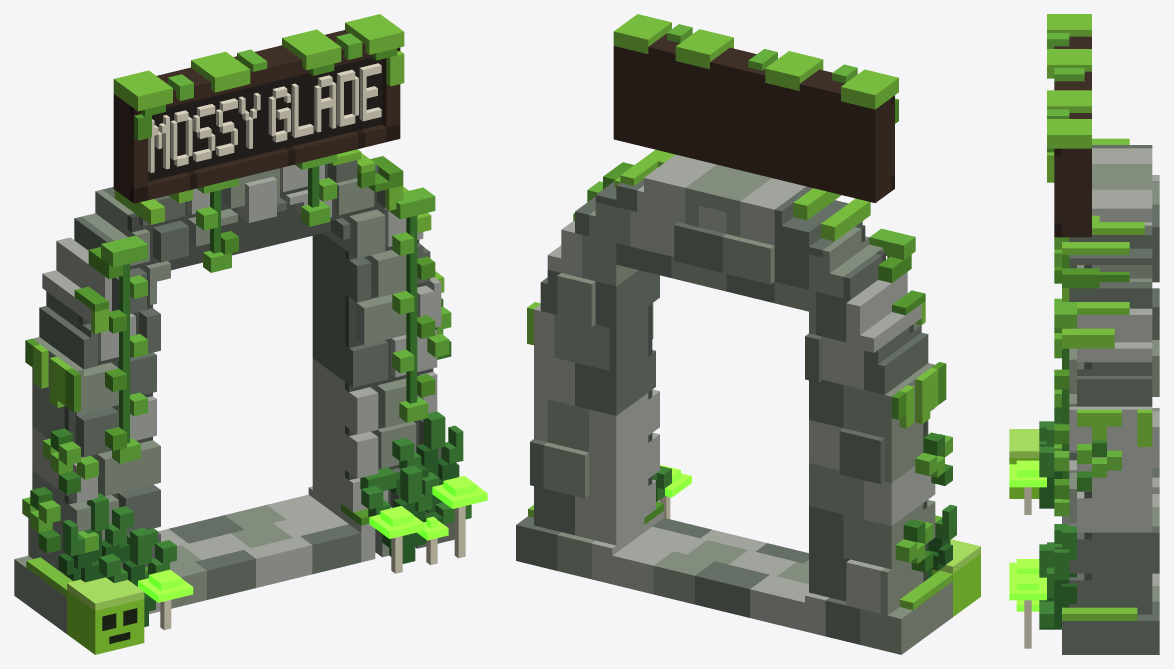
The model's file is Lobby_PortalArch_MossyGlade.glb.
3 views of the same model, side by side, from view 1: azimuth 30°, elevation 25°; view 2: azimuth 150°, elevation 25°; view 3: azimuth 270°, elevation 25° (orthographic). The views are drawn at different scales.
Parts seen in each view (by area): view 1: StoneLight, Stone, StoneDark, Leaf, Moss, Wood, FernLight, SignBoard, SignText, MossDark, StoneJoint, Vine (+6 smaller); view 2: StoneLight, Stone, StoneDark, Wood, Moss, Leaf, MossDark, Vine, SlimeBody, FernLight, StoneJoint, SlimeTop (+1 smaller); view 3: StoneDark, StoneLight, Moss, Wood, Stone, Leaf, FernLight, MushroomGlow, MossDark, Fern, Vine, SlimeTop (+3 smaller).
Part boxes in pixels (left/top/right/bottom): StoneLight: left=32, top=164, right=441, bottom=613; Stone: left=14, top=168, right=419, bottom=633; StoneDark: left=39, top=160, right=454, bottom=599; Leaf: left=22, top=33, right=451, bottom=552; Moss: left=26, top=14, right=444, bottom=597; Wood: left=113, top=30, right=400, bottom=200; FernLight: left=63, top=411, right=471, bottom=582; SignBoard: left=148, top=57, right=382, bottom=181; SignText: left=148, top=63, right=381, bottom=172; MossDark: left=25, top=48, right=435, bottom=574; StoneJoint: left=64, top=164, right=433, bottom=581; Vine: left=30, top=166, right=451, bottom=553; StoneLight: left=534, top=154, right=935, bottom=636; Stone: left=543, top=164, right=952, bottom=654; StoneDark: left=516, top=179, right=928, bottom=644; Wood: left=613, top=33, right=894, bottom=202; Moss: left=527, top=14, right=952, bottom=609; Leaf: left=587, top=24, right=952, bottom=563; MossDark: left=603, top=98, right=946, bottom=524; Vine: left=887, top=256, right=952, bottom=572; SlimeBody: left=932, top=554, right=980, bottom=616; FernLight: left=652, top=466, right=956, bottom=540; StoneJoint: left=648, top=224, right=927, bottom=581; SlimeTop: left=939, top=539, right=980, bottom=573; StoneDark: left=1062, top=145, right=1159, bottom=654; StoneLight: left=1069, top=148, right=1159, bottom=585; Moss: left=1047, top=14, right=1152, bottom=620; Wood: left=1054, top=36, right=1091, bottom=237; Stone: left=1069, top=164, right=1159, bottom=601; Leaf: left=1047, top=33, right=1121, bottom=516; FernLight: left=1039, top=407, right=1076, bottom=627; MushroomGlow: left=1009, top=460, right=1046, bottom=611; MossDark: left=1047, top=148, right=1129, bottom=498; Fern: left=1039, top=471, right=1076, bottom=629; Vine: left=1062, top=328, right=1106, bottom=499; SlimeTop: left=1009, top=429, right=1039, bottom=457.
Size of the model in its own units: 2.8 by 3.6 by 1.
